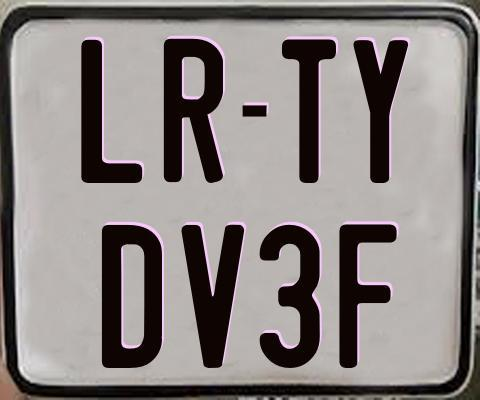3: (257, 223, 324, 368)
D: (99, 224, 162, 368)
F: (338, 223, 400, 372)
L: (78, 37, 139, 184)
R: (164, 36, 226, 184)
T: (282, 38, 341, 184)
V: (181, 224, 245, 369)
Y: (351, 39, 406, 183)
